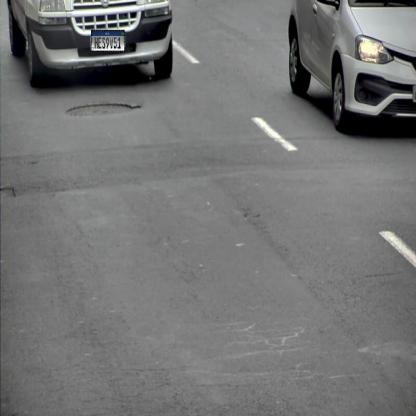PlacaM: (91, 30, 125, 52)
